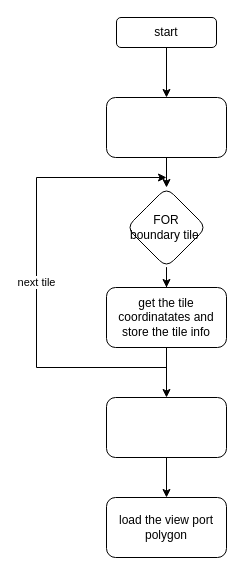
This 244x575 diagram has some shape labels left out. Each missing label, with the centre of its shape:
"construct view port object" goes at point 166,427.
"get the tile object" goes at point 166,127.
